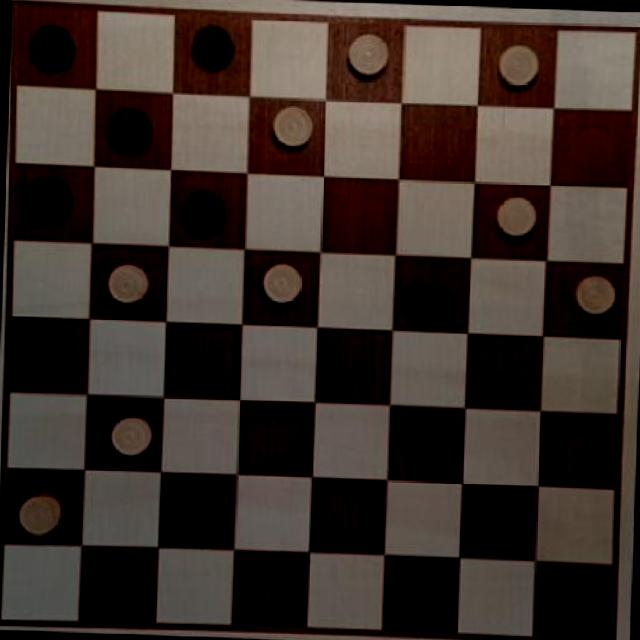BOARD: (2, 2, 625, 640)
black: (18, 166, 76, 224), (165, 479, 223, 533), (26, 16, 80, 73), (555, 575, 608, 631), (402, 417, 454, 471), (188, 18, 235, 76), (472, 496, 524, 548), (104, 103, 154, 156), (404, 276, 454, 324), (182, 184, 226, 236)
white: (11, 484, 70, 538), (566, 264, 620, 322), (341, 28, 392, 80), (492, 38, 542, 90), (105, 410, 154, 460), (256, 258, 305, 308), (491, 193, 542, 241), (268, 104, 319, 147), (104, 260, 150, 306)
